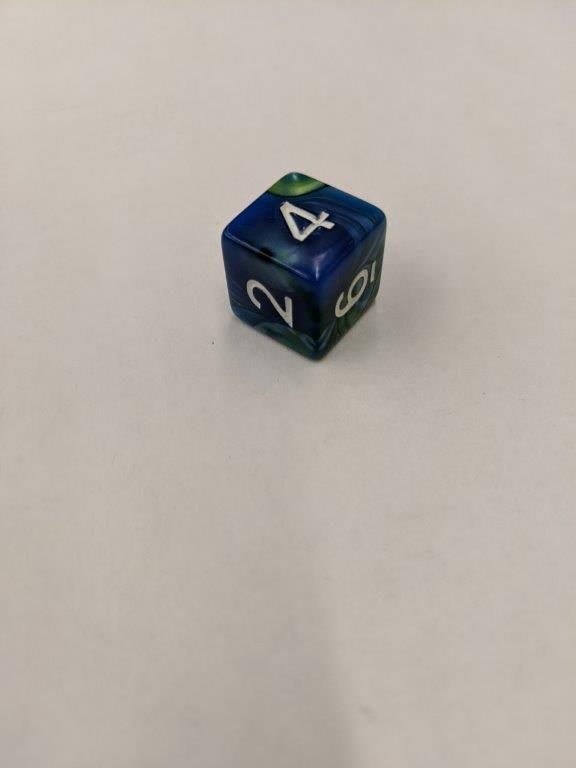d6-4: (220, 171, 388, 363)
